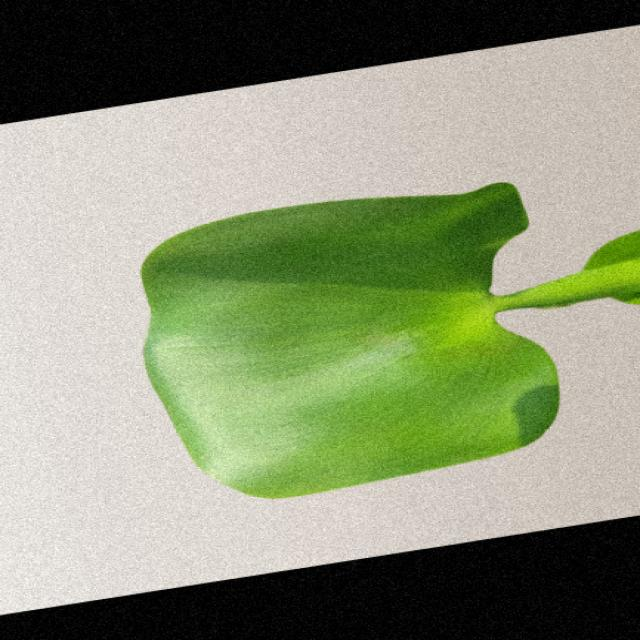daun sehat: (142, 182, 637, 497)
